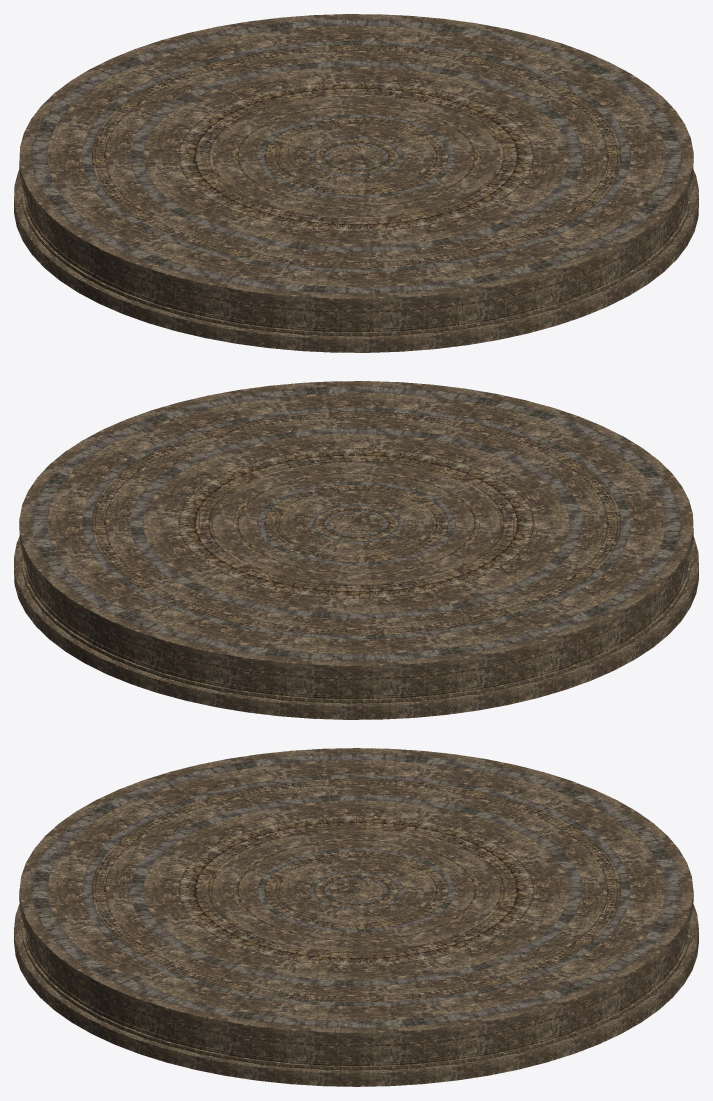
Rendered from materials_5_floor_round_0.fbx.
The picture shows the model from 3 angles, top to bottom: view 1: azimuth 30°, elevation 25°; view 2: azimuth 150°, elevation 25°; view 3: azimuth 270°, elevation 25°; orthographic projection.
Parts seen in each view (by area): view 1: materials_5_floor_round_0; view 2: materials_5_floor_round_0; view 3: materials_5_floor_round_0.
Boxes of the visible parts, bbox=[...] form: materials_5_floor_round_0: bbox=[14, 14, 698, 352]; materials_5_floor_round_0: bbox=[14, 381, 698, 719]; materials_5_floor_round_0: bbox=[14, 748, 698, 1086].
Bounding box in the file's own units: 686 × 57.09 × 686.
